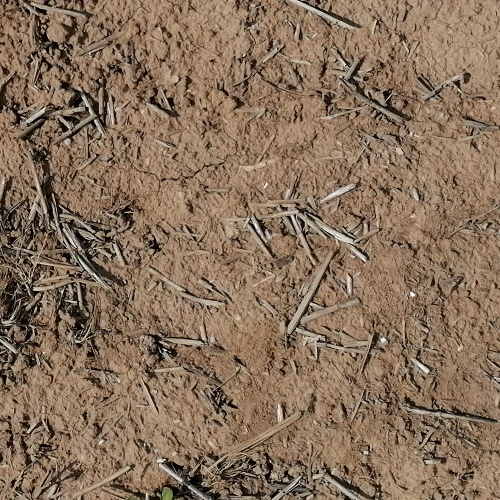beet: (158, 484, 175, 500)
